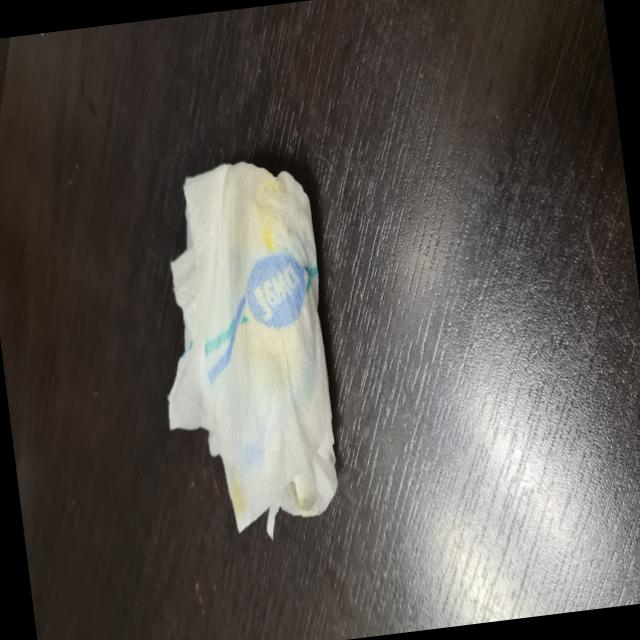organic waste: (138, 152, 355, 550)
